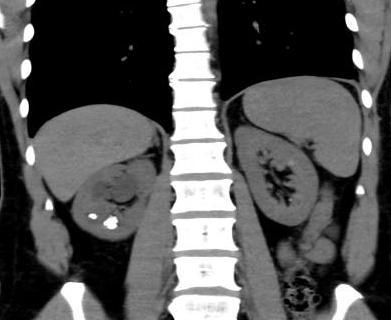Tas_Var: (102, 218, 121, 230), (88, 212, 98, 222), (110, 215, 118, 219), (288, 198, 293, 202)
